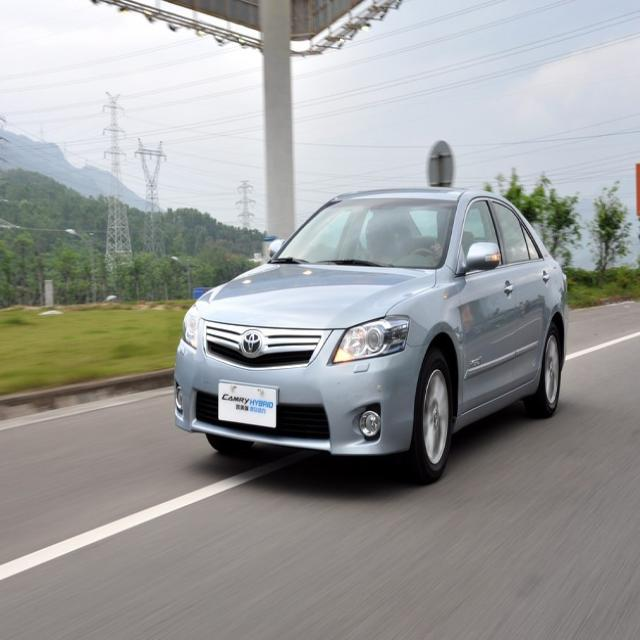front_bumper: (177, 334, 420, 458)
front_glass: (279, 190, 458, 270)
front_left_side_door: (452, 190, 516, 413)
front_left_side_light: (333, 310, 413, 367)
front_left_side_mirror: (460, 236, 504, 276)
front_right_side_light: (183, 301, 202, 354)
front_right_side_mirror: (264, 234, 286, 267)
wheel: (414, 352, 454, 471), (539, 317, 563, 408)
